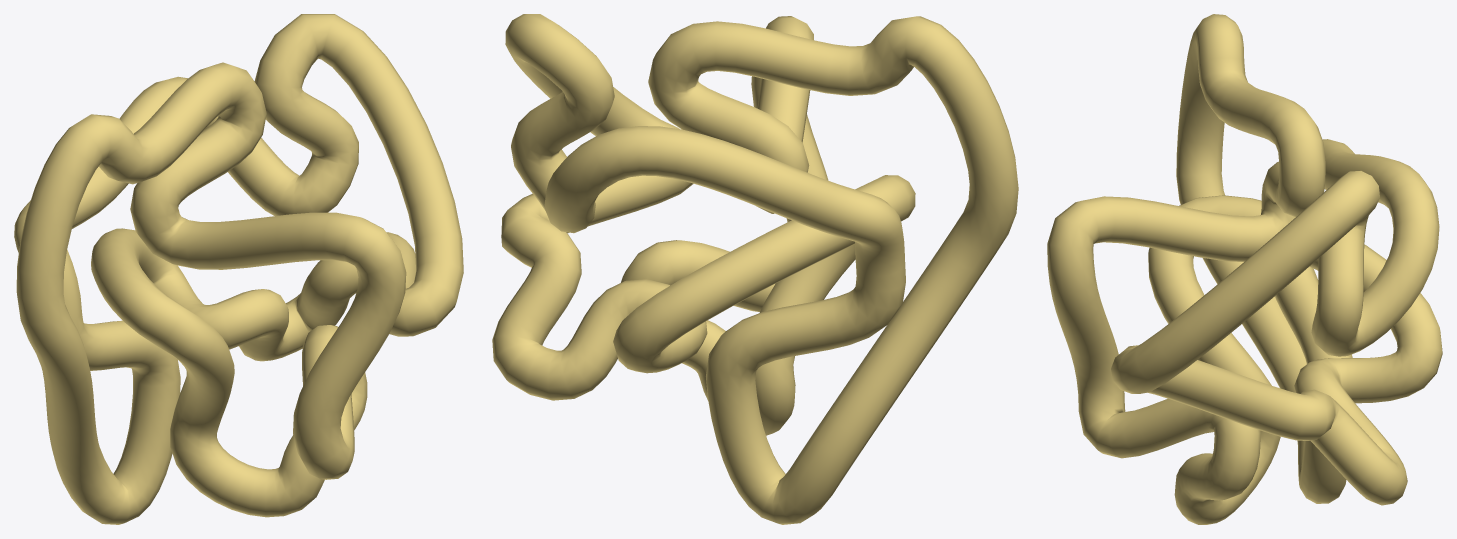
File: bendy.glb
3 renders of one model, left to right at view 1: azimuth 30°, elevation 25°; view 2: azimuth 150°, elevation 25°; view 3: azimuth 270°, elevation 25°, orthographic. The views are drawn at different scales.
Visible parts, largest first — view 1: BezierCurve; view 2: BezierCurve; view 3: BezierCurve.
Part boxes in pixels (box(x1,y1,x2,y2)): BezierCurve: box(14, 14, 463, 524); BezierCurve: box(492, 14, 1018, 524); BezierCurve: box(1047, 14, 1442, 524).
Size of the model in its own units: 4.85 by 4.89 by 3.92.
